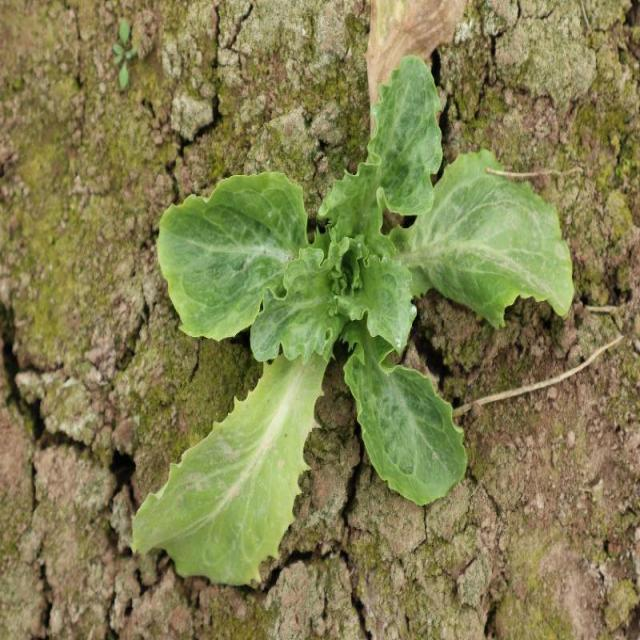crop: (138, 53, 573, 584)
